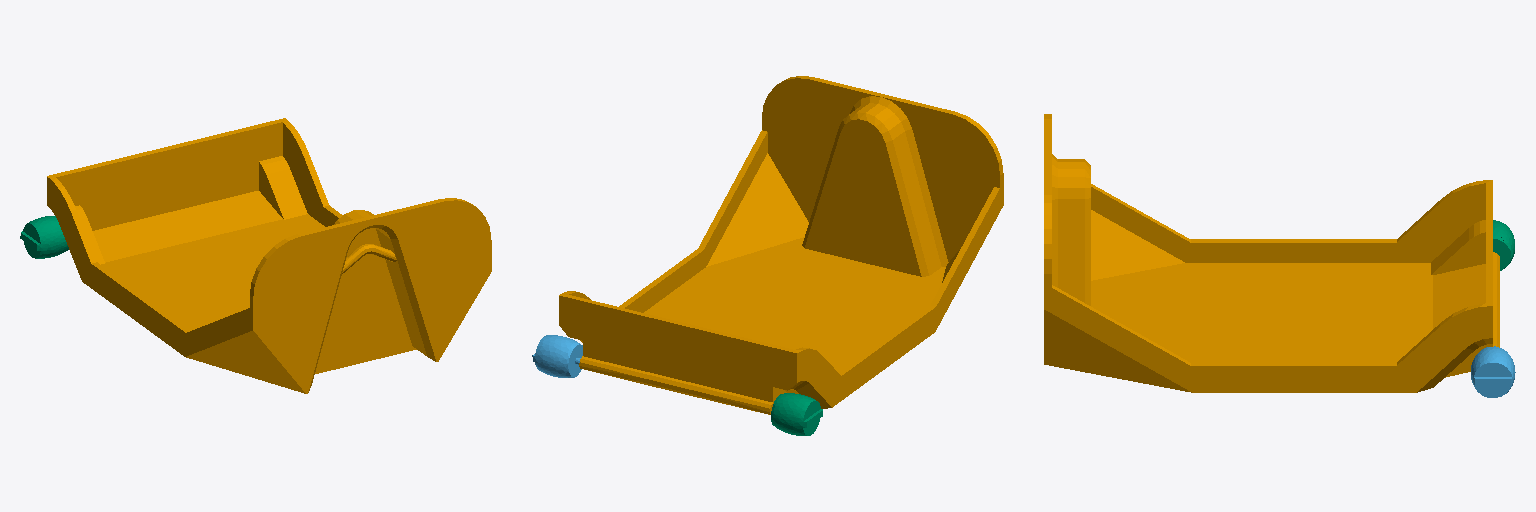
The robot description file, URDF, robot "FreeLunar_Sled_Empty":
<?xml version='1.0'?>
<robot name="FreeLunar_Sled_Empty">
  <link name='chassis'>
    <collision name='collision'>
      <origin xyz="0.0 0.0 0.0" rpy="0.0 0.0 0.0" />
      <geometry>
        <mesh filename="package://fluna_gazebo/meshes/RoRo_Sled_V0_1.stl" />
      </geometry>
      <surface>
        <bounce>
          <restitution_coefficient>0.35</restitution_coefficient>
          <threshold>0.025</threshold>
        </bounce>
      </surface>
    </collision>

    <visual name='visual'>
      <origin xyz="0.0 0.0 0.0" rpy="0.0 0.0 0.0" />
      <geometry>
        <mesh filename="package://fluna_gazebo/meshes/RoRo_Sled_V0_1.stl" />
      </geometry>
    </visual>

    <inertial>
      <mass value="4.419" />
      <origin xyz="0.0 0.063738 0.054633" rpy="-0.1418952682 0.0 0.0" />
      <inertia
	  ixx="0.223047752" ixy="0.0" ixz="0.0"
	  iyy="0.08231827" iyz="0.0"
	  izz="0.274096609" />
    </inertial>
  </link>

  <link name="left_wheel">
    <collision name="collision">
      <origin xyz="0.0 0.0 0.0" rpy="0.0 0.0 0.0" />
      <geometry>
        <cylinder length="0.06" radius="0.03" />
      </geometry>
    </collision>
    <visual name="visual">
      <origin xyz="0.0 0.0 0.0" rpy="0.0 0.0 0.0" />
      <geometry>
        <mesh filename="package://fluna_gazebo/meshes/RoRo Skip Wheel_visual_low.dae" />
      </geometry>
    </visual>
    <inertial>
      <mass value="0.145" />
      <origin xyz="0.0 0.0 -0.001687" rpy="0.0 0.0 0.0" />
      <inertia
	  ixx="0.000065748" ixy="0.0" ixz="0.0"
	  iyy="0.000065207" iyz="0.0"
	  izz="0.000058981" />
    </inertial>
  </link>

  <joint type="continuous" name="left_wheel_joint">
    <origin xyz="0.2 0.4 0.03" rpy="0.0 1.5707 0.0" />
    <child link="left_wheel" />
    <parent link="chassis" />
    <axis xyz="0 0 -1" />
    <dynamics damping="0.1" />
  </joint>

  <link name="right_wheel">
    <collision name="collision">
      <origin xyz="0.0 0.0 0.0" rpy="0.0 0.0 0.0" />
      <geometry>
        <cylinder length="0.06" radius="0.03" />
      </geometry>
    </collision>
    <visual name="visual">
      <origin xyz="0.0 0.0 0.0" rpy="0.0 0.0 0.0" />
      <geometry>
        <mesh filename="package://fluna_gazebo/meshes/RoRo Skip Wheel_visual_low.dae" />
      </geometry>
    </visual>
    <inertial>
      <mass value="0.145" />
      <origin xyz="0.0 0.0 -0.001687" rpy="0.0 0.0 0.0" />
      <inertia
	  ixx="0.000065748" ixy="0.0" ixz="0.0"
	  iyy="0.000065207" iyz="0.0"
	  izz="0.000058981" />
    </inertial>
  </link>

  <joint type="continuous" name="right_wheel_joint">
    <origin xyz="-0.2 0.4 0.03" rpy="0.0 -1.5707 0.0" />
    <child link="right_wheel" />
    <parent link="chassis" />
    <axis xyz="0 0 1" />
    <dynamics damping="0.1" />
  </joint>
</robot>

--- Render facts (derived) ---
The picture shows the robot from 3 angles, left to right: view 1: azimuth 30°, elevation 25°; view 2: azimuth 150°, elevation 25°; view 3: azimuth 270°, elevation 25°; orthographic projection.
Model FreeLunar_Sled_Empty with 3 links and 2 joints (2 continuous), rooted at chassis, posed all joints at 0.
Visible links, largest first — view 1: chassis, right_wheel; view 2: chassis, right_wheel, left_wheel; view 3: chassis, left_wheel, right_wheel.
Link boxes in pixels (x1,y1,x2,y2): chassis: (47,118,491,393); right_wheel: (20,216,68,258); chassis: (559,76,1003,414); right_wheel: (771,393,822,435); left_wheel: (532,335,582,377); chassis: (1044,114,1499,392); left_wheel: (1471,346,1515,397); right_wheel: (1493,220,1514,270).
Bounding box of the posed robot: 0.46 × 0.6301 × 0.255 m (x, y, z).
3 mesh visuals loaded from 2 distinct referenced files (1 binary STL, 1 Collada DAE).
